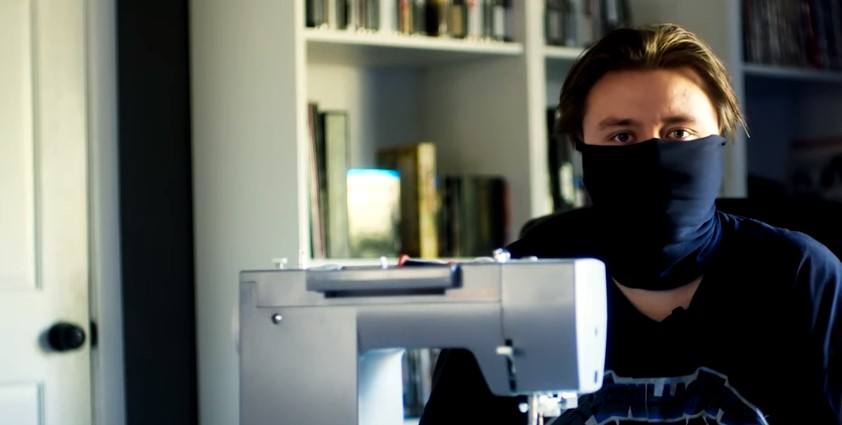face_with_mask: (558, 26, 727, 270)
